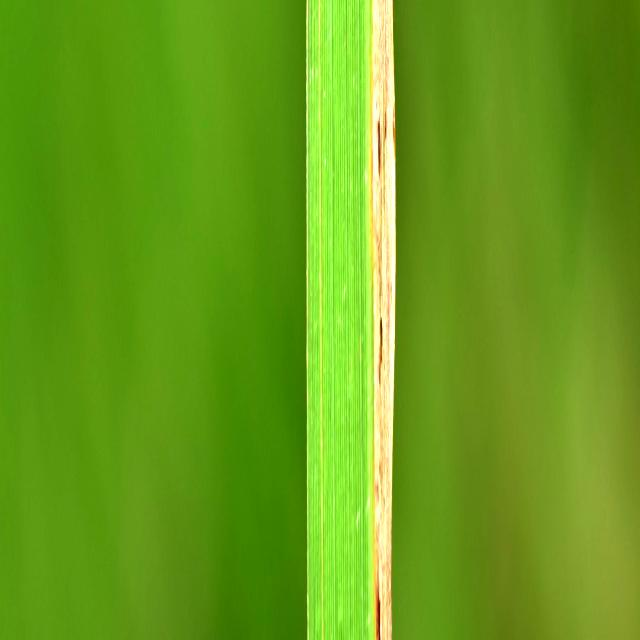BLB: (370, 0, 395, 638)
